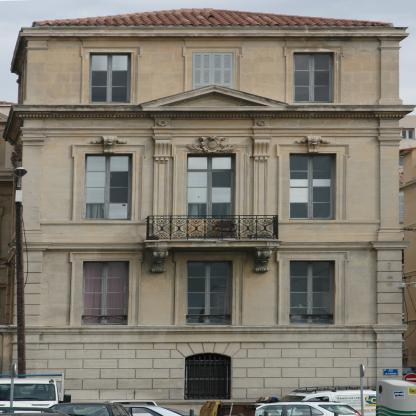Balcony: (147, 215, 279, 239)
Building Outline: (0, 8, 416, 416)
Cornice: (139, 83, 289, 111)
Deco: (251, 246, 276, 273), (148, 246, 172, 273)
Door: (187, 171, 235, 240)
Facade: (2, 7, 416, 416)
Floor: (23, 128, 400, 242), (20, 249, 402, 327)
Floor Slab: (23, 120, 400, 128), (14, 327, 402, 334), (14, 242, 402, 249)
Ground Floor: (14, 335, 402, 416)
Molding: (11, 105, 416, 120), (9, 241, 412, 251), (6, 325, 409, 335), (19, 32, 410, 36), (20, 127, 405, 130)
Pillar: (251, 126, 275, 240), (151, 126, 175, 240)
Roof: (31, 8, 395, 27)
Top Floor: (28, 36, 399, 120)
Window: (85, 153, 133, 220), (290, 153, 337, 220), (82, 261, 130, 326), (187, 260, 234, 325), (291, 260, 338, 324), (184, 353, 231, 400), (293, 52, 335, 103), (90, 52, 131, 103), (192, 52, 233, 90)
